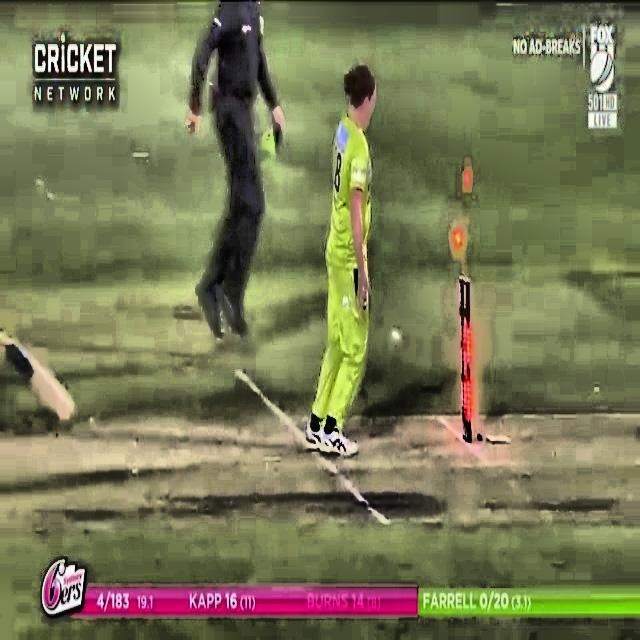Ball: (383, 320, 410, 350)
Bat: (0, 327, 81, 422)
Dis_Wicket: (442, 162, 487, 448)
Pitch_Line: (230, 368, 329, 460), (318, 454, 388, 528)
